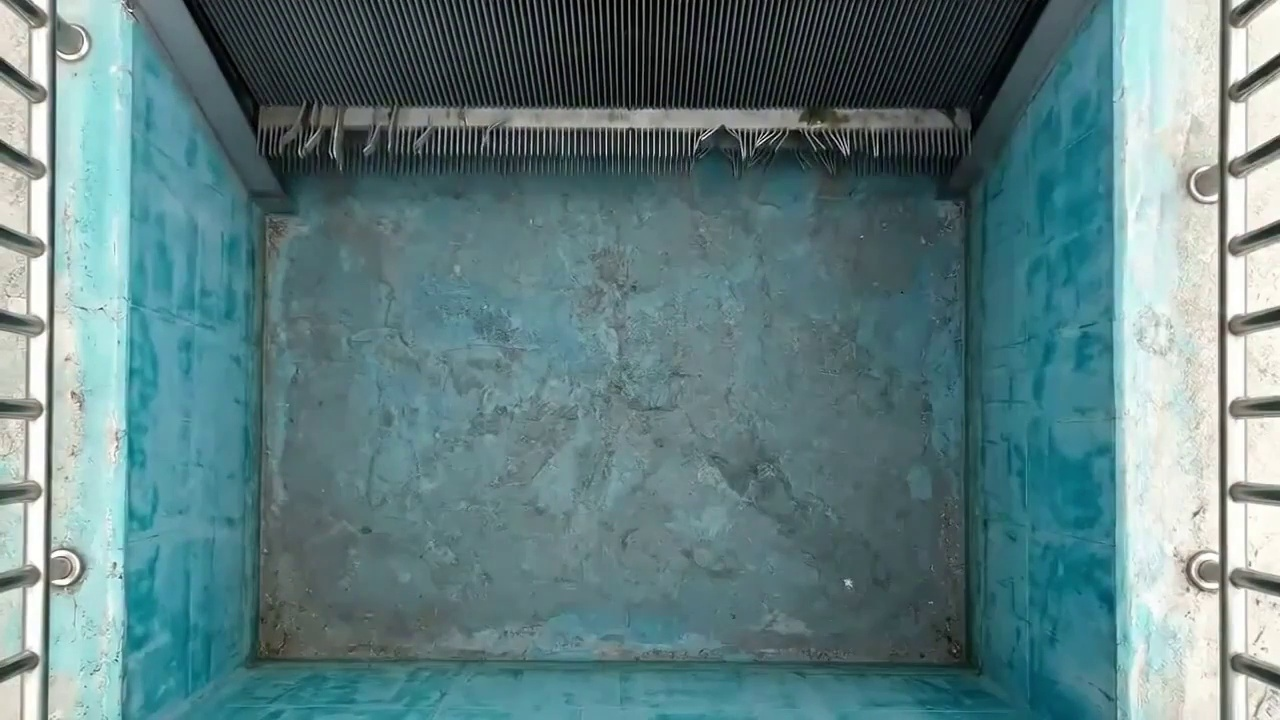damage: (672, 114, 887, 182), (268, 103, 446, 170)
